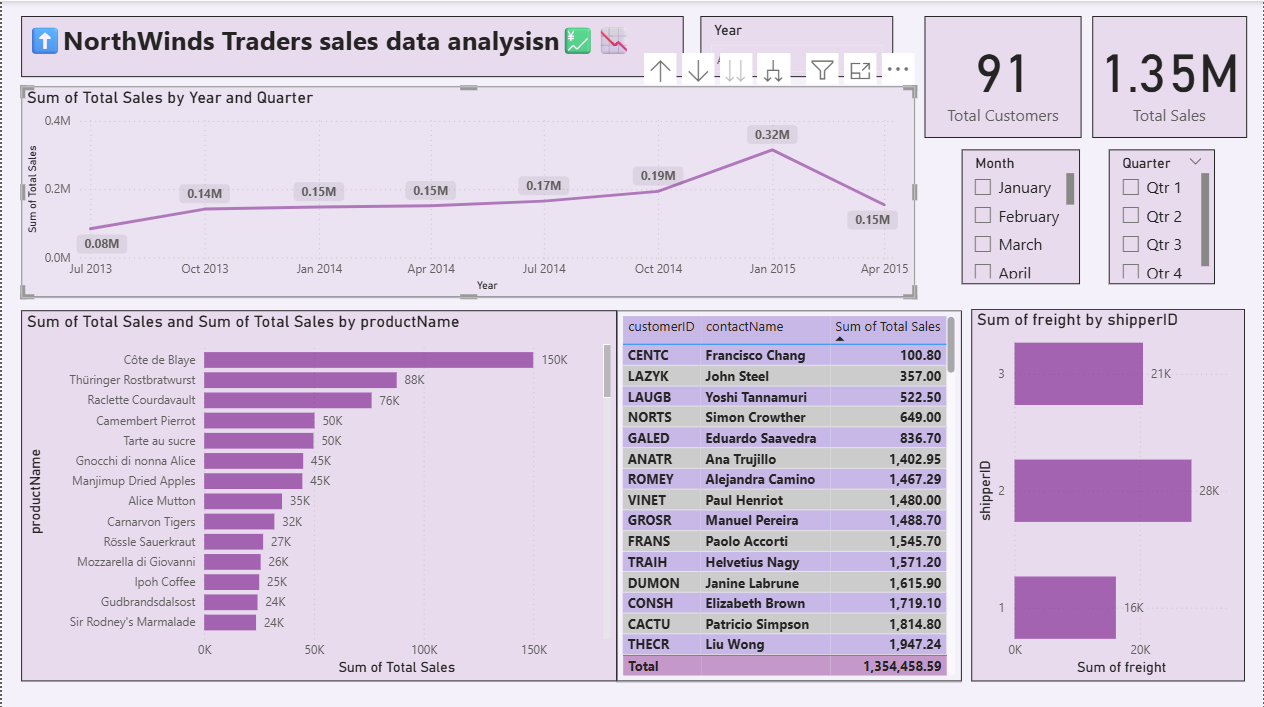

Layout of this report page (visuals, bound fields, positions):
{"tool":"powerbi","page":{"name":"Page 1","canvas":[1280,720],"ordinal":0},"visuals":[{"type":"lineChart","fields":{"Y":["order_details.Total Sales"],"Category":["orders.orderDate.Variation.Date Hierarchy.Year","orders.orderDate.Variation.Date Hierarchy.Quarter","orders.orderDate.Variation.Date Hierarchy.Month"]},"box":[19.3,86.6,907.7,214.5],"z":0},{"type":"slicer","fields":{"Values":["orders.orderDate.Variation.Date Hierarchy.Year"]},"box":[709.6,15.1,195.3,61.9],"z":1000},{"type":"slicer","fields":{"Values":["orders.orderDate.Variation.Date Hierarchy.Quarter"]},"box":[1124.3,150.8,107.5,136.9],"z":2000},{"type":"slicer","fields":{"Values":["orders.orderDate.Variation.Date Hierarchy.Month"]},"box":[974.8,150.8,120.1,136.9],"z":3000},{"type":"tableEx","fields":{"Values":["customers.customerID","customers.contactName","order_details.Total Sales"]},"box":[624.3,314.2,350.6,377.1],"z":4000},{"type":"clusteredBarChart","fields":{"Category":["shippers.shipperID"],"Y":["orders.freight"]},"box":[984.7,312.2,277.8,378.2],"z":5000},{"type":"clusteredBarChart","fields":{"Category":["products.productName"],"Y":["order_details.Total Sales","order_details.Total Sales"]},"box":[19.3,313.6,605.1,376.8],"z":6000},{"type":"card","fields":{"Values":["order_details.Total Sales"]},"box":[1107.1,15.1,156.8,123.8],"z":7000},{"type":"card","fields":{"Values":["customers.customerID"]},"box":[936.6,15.1,159.5,123.8],"z":8000},{"type":"textbox","box":[19.3,15.1,672.5,61.9],"z":9000}]}

Visuals, with their boxes on the page's 1280x720 design canvas (x1, y1, x2, y2). These are canvas units, not pixel positions in the 1264x707 screenshot, which may show the page scaled, cropped or inside an application window:
lineChart - order_details.Total Sales x orders.orderDate.Variation.Date Hierarchy.Year: Rect(19, 87, 927, 301)
slicer - orders.orderDate.Variation.Date Hierarchy.Year: Rect(710, 15, 905, 77)
slicer - orders.orderDate.Variation.Date Hierarchy.Quarter: Rect(1124, 151, 1232, 288)
slicer - orders.orderDate.Variation.Date Hierarchy.Month: Rect(975, 151, 1095, 288)
tableEx - customers.customerID x customers.contactName: Rect(624, 314, 975, 691)
clusteredBarChart - shippers.shipperID x orders.freight: Rect(985, 312, 1262, 690)
clusteredBarChart - products.productName x order_details.Total Sales: Rect(19, 314, 624, 690)
card - order_details.Total Sales: Rect(1107, 15, 1264, 139)
card - customers.customerID: Rect(937, 15, 1096, 139)
textbox: Rect(19, 15, 692, 77)
